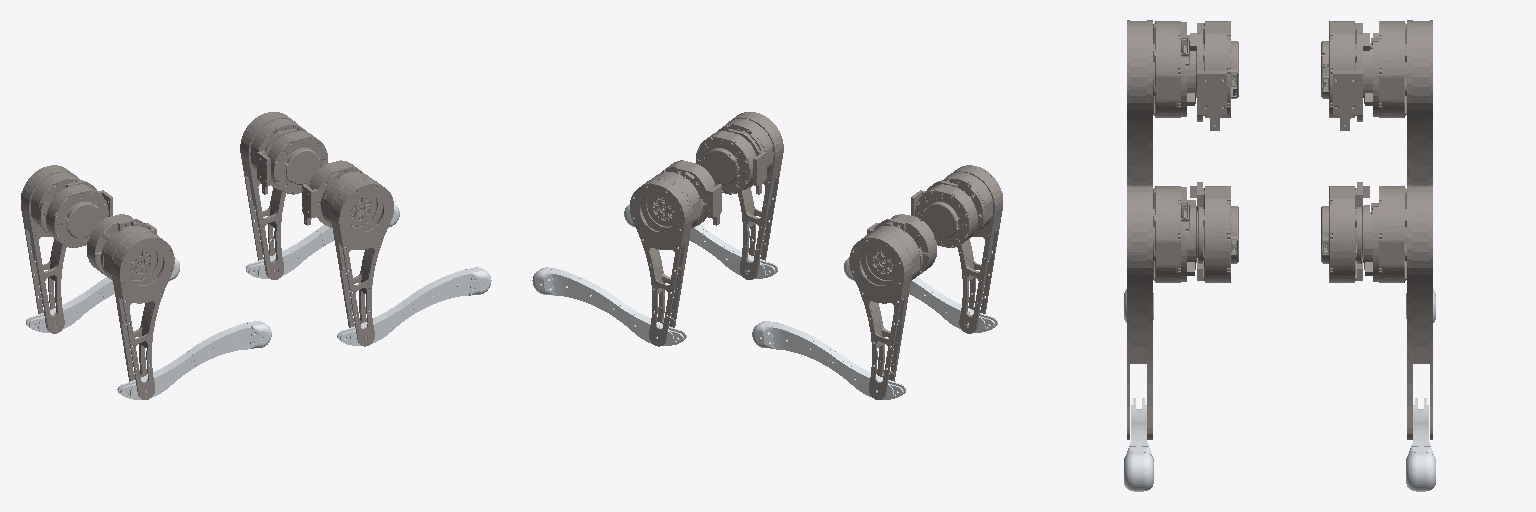
robot.urdf — Creeper20260714:
<?xml version="1.0" encoding="utf-8"?>
<!-- This URDF was automatically created by SolidWorks to URDF Exporter! Originally created by Stephen Brawner (brawner@gmail.com)
     Commit Version: 1.6.0-4-g7f85cfe  Build Version: 1.6.7995.38578
     For more information, please see http://wiki.ros.org/sw_urdf_exporter -->
<!-- Manually refined for Isaac Sim RL training: joint limits, simplified collision geometry, foot/IMU links -->
<robot
  name="Creeper20260714">
  <link
    name="base">
    <inertial>
      <origin
        xyz="0.00386499983177562 -2.03247211452134E-05 -1.80951555348724E-05"
        rpy="0 0 0" />
      <mass
        value="3.74183134376699" />
      <inertia
        ixx="0.00953237368262341"
        ixy="1.89363178280218E-11"
        ixz="-1.01659953800154E-07"
        iyy="0.0083275072712231"
        iyz="-2.58537971389596E-12"
        izz="0.0118622227773655" />
    </inertial>
    <visual>
      <origin
        xyz="0 0 0"
        rpy="0 0 0" />
      <geometry>
        <mesh
          filename="package://Creeper20260714/meshes/base.STL" />
      </geometry>
      <material
        name="">
        <color
          rgba="0.898039215686275 0.917647058823529 0.929411764705882 1" />
      </material>
    </visual>
    <collision>
      <origin
        xyz="0 0 0"
        rpy="0 0 0" />
      <geometry>
        <box
          size="0.272 0.226 0.144" />
      </geometry>
    </collision>
  </link>
  <link
    name="FL_hip">
    <inertial>
      <origin
        xyz="0.0431603084579474 -0.00285111325644608 -0.000548881302929932"
        rpy="0 0 0" />
      <mass
        value="0.320256693089227" />
      <inertia
        ixx="0.000202558487378132"
        ixy="-2.52875164704917E-08"
        ixz="-3.20671099086801E-06"
        iyy="0.000338511851620636"
        iyz="3.0639885191781E-08"
        izz="0.000165734343548543" />
    </inertial>
    <visual>
      <origin
        xyz="0 0 0"
        rpy="0 0 0" />
      <geometry>
        <mesh
          filename="package://Creeper20260714/meshes/FL_hip.STL" />
      </geometry>
      <material
        name="">
        <color
          rgba="0.643137254901961 0.615686274509804 0.6 1" />
      </material>
    </visual>
    <collision>
      <origin
        xyz="0.05825 0.0323 0"
        rpy="1.5708 0 0" />
      <geometry>
        <cylinder
          radius="0.049"
          length="0.111" />
      </geometry>
    </collision>
  </link>
  <joint
    name="FL_hip_joint"
    type="revolute">
    <origin
      xyz="0.1366 0.0650000000000001 0"
      rpy="0 0 0" />
    <parent
      link="base" />
    <child
      link="FL_hip" />
    <axis
      xyz="1 0 0" />
    <limit
      lower="-1.0472"
      upper="1.0472"
      effort="23.7"
      velocity="30.1" />
  </joint>
  <link
    name="FL_thigh">
    <inertial>
      <origin
        xyz="-0.000489671141172848 0.033870013963175 -0.0348280717734466"
        rpy="0 0 0" />
      <mass
        value="0.76538912651759" />
      <inertia
        ixx="0.00270283362642319"
        ixy="-9.91541372042529E-07"
        ixz="-5.66527374408905E-05"
        iyy="0.0031617559141559"
        iyz="8.39811249232385E-07"
        izz="0.000482550188376098" />
    </inertial>
    <visual>
      <origin
        xyz="0 0 0"
        rpy="0 0 0" />
      <geometry>
        <mesh
          filename="package://Creeper20260714/meshes/FL_thigh.STL" />
      </geometry>
      <material
        name="">
        <color
          rgba="0.643137254901961 0.615686274509804 0.6 1" />
      </material>
    </visual>
    <collision>
      <origin
        xyz="-0.01 0.0557 -0.1"
        rpy="0 1.5708 0" />
      <geometry>
        <box
          size="0.1 0.026 0.04" />
      </geometry>
    </collision>
  </link>
  <joint
    name="FL_thigh_joint"
    type="revolute">
    <origin
      xyz="0.0582500000000014 0.0186 0"
      rpy="0 0 0" />
    <parent
      link="FL_hip" />
    <child
      link="FL_thigh" />
    <axis
      xyz="0 1 0" />
    <limit
      lower="-1.5708"
      upper="3.4907"
      effort="23.7"
      velocity="30.1" />
  </joint>
  <link
    name="FL_calf">
    <inertial>
      <origin
        xyz="0.00631299328437346 -2.44962006318572E-05 -0.0917686544938744"
        rpy="0 0 0" />
      <mass
        value="0.247799276349931" />
      <inertia
        ixx="0.000559369450508884"
        ixy="7.27767290770979E-09"
        ixz="3.19275906514457E-05"
        iyy="0.000579943419434484"
        iyz="5.90377388399681E-08"
        izz="2.49336124638641E-05" />
    </inertial>
    <visual>
      <origin
        xyz="0 0 0"
        rpy="0 0 0" />
      <geometry>
        <mesh
          filename="package://Creeper20260714/meshes/FL_calf.STL" />
      </geometry>
      <material
        name="">
        <color
          rgba="0.898039215686275 0.917647058823529 0.929411764705882 1" />
      </material>
    </visual>
    <collision>
      <origin
        xyz="0.01 0 -0.07"
        rpy="0 -0.2 0" />
      <geometry>
        <cylinder
          radius="0.013"
          length="0.12" />
      </geometry>
    </collision>
  </link>
  <joint
    name="FL_calf_joint"
    type="revolute">
    <origin
      xyz="0 0.0571999999999998 -0.210000000000001"
      rpy="0 0 0" />
    <parent
      link="FL_thigh" />
    <child
      link="FL_calf" />
    <axis
      xyz="0 1 0" />
    <limit
      lower="-2.7227"
      upper="-0.83776"
      effort="23.7"
      velocity="30.1" />
  </joint>
  <link
    name="FL_foot">
    <inertial>
      <origin
        xyz="0 0 0"
        rpy="0 0 0" />
      <mass
        value="0.001" />
      <inertia
        ixx="1e-06"
        ixy="0"
        ixz="0"
        iyy="1e-06"
        iyz="0"
        izz="1e-06" />
    </inertial>
    <collision>
      <origin
        xyz="0 0 0"
        rpy="0 0 0" />
      <geometry>
        <sphere
          radius="0.02" />
      </geometry>
    </collision>
  </link>
  <joint
    name="FL_foot_joint"
    type="fixed">
    <origin
      xyz="0 0 -0.208"
      rpy="0 0 0" />
    <parent
      link="FL_calf" />
    <child
      link="FL_foot" />
    <axis
      xyz="0 0 0" />
  </joint>
  <link
    name="FR_hip">
    <inertial>
      <origin
        xyz="0.0488518947910704 -0.00192525478270265 -0.00015510327322886"
        rpy="0 0 0" />
      <mass
        value="0.257407927514488" />
      <inertia
        ixx="0.000156846815669293"
        ixy="5.06258230404034E-06"
        ixz="-1.06041391708468E-06"
        iyy="0.000275360062616544"
        iyz="9.35203969424092E-07"
        izz="0.00014033952573263" />
    </inertial>
    <visual>
      <origin
        xyz="0 0 0"
        rpy="0 0 0" />
      <geometry>
        <mesh
          filename="package://Creeper20260714/meshes/FR_hip.STL" />
      </geometry>
      <material
        name="">
        <color
          rgba="0.643137254901961 0.615686274509804 0.6 1" />
      </material>
    </visual>
    <collision>
      <origin
        xyz="0.05825 -0.0323 0"
        rpy="1.5708 0 0" />
      <geometry>
        <cylinder
          radius="0.049"
          length="0.111" />
      </geometry>
    </collision>
  </link>
  <joint
    name="FR_hip_joint"
    type="revolute">
    <origin
      xyz="0.1366 -0.065 0"
      rpy="0 0 0" />
    <parent
      link="base" />
    <child
      link="FR_hip" />
    <axis
      xyz="1 0 0" />
    <limit
      lower="-1.0472"
      upper="1.0472"
      effort="23.7"
      velocity="30.1" />
  </joint>
  <link
    name="FR_thigh">
    <inertial>
      <origin
        xyz="-0.00138356714240059 -0.0372521299929286 -0.0290600607162528"
        rpy="0 0 0" />
      <mass
        value="0.589774741172531" />
      <inertia
        ixx="0.00178232184904083"
        ixy="-7.78885731305333E-07"
        ixz="-2.43318120038301E-05"
        iyy="0.00212930364572145"
        iyz="-6.58052186418647E-07"
        izz="0.000367961460449924" />
    </inertial>
    <visual>
      <origin
        xyz="0 0 0"
        rpy="0 0 0" />
      <geometry>
        <mesh
          filename="package://Creeper20260714/meshes/FR_thigh.STL" />
      </geometry>
      <material
        name="">
        <color
          rgba="0.643137254901961 0.615686274509804 0.6 1" />
      </material>
    </visual>
    <collision>
      <origin
        xyz="-0.01 -0.0557 -0.1"
        rpy="0 1.5708 0" />
      <geometry>
        <box
          size="0.1 0.026 0.04" />
      </geometry>
    </collision>
  </link>
  <joint
    name="FR_thigh_joint"
    type="revolute">
    <origin
      xyz="0.05825 -0.0185999999999999 0"
      rpy="0 0 0" />
    <parent
      link="FR_hip" />
    <child
      link="FR_thigh" />
    <axis
      xyz="0 1 0" />
    <limit
      lower="-1.5708"
      upper="3.4907"
      effort="23.7"
      velocity="30.1" />
  </joint>
  <link
    name="FR_calf">
    <inertial>
      <origin
        xyz="0.00631299328437376 -2.82624520819563E-05 -0.0917686544938743"
        rpy="0 0 0" />
      <mass
        value="0.247799276349931" />
      <inertia
        ixx="0.000559369450508884"
        ixy="7.27767290771992E-09"
        ixz="3.19275906514456E-05"
        iyy="0.000579943419434487"
        iyz="5.90377388401947E-08"
        izz="2.4933612463867E-05" />
    </inertial>
    <visual>
      <origin
        xyz="0 0 0"
        rpy="0 0 0" />
      <geometry>
        <mesh
          filename="package://Creeper20260714/meshes/FR_calf.STL" />
      </geometry>
      <material
        name="">
        <color
          rgba="0.898039215686275 0.917647058823529 0.929411764705882 1" />
      </material>
    </visual>
    <collision>
      <origin
        xyz="0.01 0 -0.07"
        rpy="0 -0.2 0" />
      <geometry>
        <cylinder
          radius="0.013"
          length="0.12" />
      </geometry>
    </collision>
  </link>
  <joint
    name="FR_calf_joint"
    type="revolute">
    <origin
      xyz="0 -0.0571999999999967 -0.210000000000007"
      rpy="0 0 0" />
    <parent
      link="FR_thigh" />
    <child
      link="FR_calf" />
    <axis
      xyz="0 1 0" />
    <limit
      lower="-2.7227"
      upper="-0.83776"
      effort="23.7"
      velocity="30.1" />
  </joint>
  <link
    name="FR_foot">
    <inertial>
      <origin
        xyz="0 0 0"
        rpy="0 0 0" />
      <mass
        value="0.001" />
      <inertia
        ixx="1e-06"
        ixy="0"
        ixz="0"
        iyy="1e-06"
        iyz="0"
        izz="1e-06" />
    </inertial>
    <collision>
      <origin
        xyz="0 0 0"
        rpy="0 0 0" />
      <geometry>
        <sphere
          radius="0.02" />
      </geometry>
    </collision>
  </link>
  <joint
    name="FR_foot_joint"
    type="fixed">
    <origin
      xyz="0 0 -0.208"
      rpy="0 0 0" />
    <parent
      link="FR_calf" />
    <child
      link="FR_foot" />
    <axis
      xyz="0 0 0" />
  </joint>
  <link
    name="RL_hip">
    <inertial>
      <origin
        xyz="-0.0393361409595493 -0.0226400630712833 -0.00103913853424456"
        rpy="0 0 0" />
      <mass
        value="0.383105458604425" />
      <inertia
        ixx="0.00024827015908543"
        ixy="5.06258230369592E-06"
        ixz="-1.78041535249447E-06"
        iyy="0.000401663640603311"
        iyz="-9.35203969371761E-07"
        izz="0.000191129161344077" />
    </inertial>
    <visual>
      <origin
        xyz="0 0 0"
        rpy="0 0 0" />
      <geometry>
        <mesh
          filename="package://Creeper20260714/meshes/RL_hip.STL" />
      </geometry>
      <material
        name="">
        <color
          rgba="0.643137254901961 0.615686274509804 0.6 1" />
      </material>
    </visual>
    <collision>
      <origin
        xyz="-0.05825 0.0323 0"
        rpy="1.5708 0 0" />
      <geometry>
        <cylinder
          radius="0.049"
          length="0.111" />
      </geometry>
    </collision>
  </link>
  <joint
    name="RL_hip_joint"
    type="revolute">
    <origin
      xyz="-0.1366 0.0650000000000006 0"
      rpy="0 0 0" />
    <parent
      link="base" />
    <child
      link="RL_hip" />
    <axis
      xyz="1 0 0" />
    <limit
      lower="-1.0472"
      upper="1.0472"
      effort="23.7"
      velocity="30.1" />
  </joint>
  <link
    name="RL_thigh">
    <inertial>
      <origin
        xyz="-0.000605616569703843 0.0337890578146834 -0.0346416552015531"
        rpy="0 0 0" />
      <mass
        value="0.767995666671646" />
      <inertia
        ixx="0.00270351010113163"
        ixy="-6.19424853514095E-07"
        ixz="-5.56159167100681E-05"
        iyy="0.00316653098039147"
        iyz="7.2762594166608E-07"
        izz="0.000486786032280311" />
    </inertial>
    <visual>
      <origin
        xyz="0 0 0"
        rpy="0 0 0" />
      <geometry>
        <mesh
          filename="package://Creeper20260714/meshes/RL_thigh.STL" />
      </geometry>
      <material
        name="">
        <color
          rgba="0.643137254901961 0.615686274509804 0.6 1" />
      </material>
    </visual>
    <collision>
      <origin
        xyz="-0.01 0.0557 -0.1"
        rpy="0 1.5708 0" />
      <geometry>
        <box
          size="0.1 0.026 0.04" />
      </geometry>
    </collision>
  </link>
  <joint
    name="RL_thigh_joint"
    type="revolute">
    <origin
      xyz="-0.0582499999999999 0.0186000000000001 0"
      rpy="0 0 0" />
    <parent
      link="RL_hip" />
    <child
      link="RL_thigh" />
    <axis
      xyz="0 1 0" />
    <limit
      lower="-0.5236"
      upper="4.5379"
      effort="23.7"
      velocity="30.1" />
  </joint>
  <link
    name="RL_calf">
    <inertial>
      <origin
        xyz="0.0063129932843731 -2.44962006353266E-05 -0.0917686544938742"
        rpy="0 0 0" />
      <mass
        value="0.247799276349931" />
      <inertia
        ixx="0.000559369450508884"
        ixy="7.27767290772805E-09"
        ixz="3.19275906514457E-05"
        iyy="0.000579943419434484"
        iyz="5.90377388397106E-08"
        izz="2.49336124638644E-05" />
    </inertial>
    <visual>
      <origin
        xyz="0 0 0"
        rpy="0 0 0" />
      <geometry>
        <mesh
          filename="package://Creeper20260714/meshes/RL_calf.STL" />
      </geometry>
      <material
        name="">
        <color
          rgba="0.898039215686275 0.917647058823529 0.929411764705882 1" />
      </material>
    </visual>
    <collision>
      <origin
        xyz="0.01 0 -0.07"
        rpy="0 -0.2 0" />
      <geometry>
        <cylinder
          radius="0.013"
          length="0.12" />
      </geometry>
    </collision>
  </link>
  <joint
    name="RL_calf_joint"
    type="revolute">
    <origin
      xyz="0 0.0572 -0.21"
      rpy="0 0 0" />
    <parent
      link="RL_thigh" />
    <child
      link="RL_calf" />
    <axis
      xyz="0 1 0" />
    <limit
      lower="-2.7227"
      upper="-0.83776"
      effort="23.7"
      velocity="30.1" />
  </joint>
  <link
    name="RL_foot">
    <inertial>
      <origin
        xyz="0 0 0"
        rpy="0 0 0" />
      <mass
        value="0.001" />
      <inertia
        ixx="1e-06"
        ixy="0"
        ixz="0"
        iyy="1e-06"
        iyz="0"
        izz="1e-06" />
    </inertial>
    <collision>
      <origin
        xyz="0 0 0"
        rpy="0 0 0" />
      <geometry>
        <sphere
          radius="0.02" />
      </geometry>
    </collision>
  </link>
  <joint
    name="RL_foot_joint"
    type="fixed">
    <origin
      xyz="0 0 -0.208"
      rpy="0 0 0" />
    <parent
      link="RL_calf" />
    <child
      link="RL_foot" />
    <axis
      xyz="0 0 0" />
  </joint>
  <link
    name="RR_hip">
    <inertial>
      <origin
        xyz="-0.0353696037327936 -0.00354409252874778 -0.000548881303622295"
        rpy="0 0 0" />
      <mass
        value="0.320256692950571" />
      <inertia
        ixx="0.000202558487377744"
        ixy="-2.52875162990641E-08"
        ixz="3.6588172013959E-07"
        iyy="0.000338511851613556"
        iyz="1.77848828298648E-06"
        izz="0.00016573434354132" />
    </inertial>
    <visual>
      <origin
        xyz="0 0 0"
        rpy="0 0 0" />
      <geometry>
        <mesh
          filename="package://Creeper20260714/meshes/RR_hip.STL" />
      </geometry>
      <material
        name="">
        <color
          rgba="0.643137254901961 0.615686274509804 0.6 1" />
      </material>
    </visual>
    <collision>
      <origin
        xyz="-0.05825 -0.0323 0"
        rpy="1.5708 0 0" />
      <geometry>
        <cylinder
          radius="0.049"
          length="0.111" />
      </geometry>
    </collision>
  </link>
  <joint
    name="RR_hip_joint"
    type="revolute">
    <origin
      xyz="-0.1366 -0.0649999999999998 0"
      rpy="0 0 0" />
    <parent
      link="base" />
    <child
      link="RR_hip" />
    <axis
      xyz="1 0 0" />
    <limit
      lower="-1.0472"
      upper="1.0472"
      effort="23.7"
      velocity="30.1" />
  </joint>
  <link
    name="RR_thigh">
    <inertial>
      <origin
        xyz="-0.00121942069173317 -0.0371322923229595 -0.0288437599147654"
        rpy="0 0 0" />
      <mass
        value="0.592381281327927" />
      <inertia
        ixx="0.00178299830958067"
        ixy="-4.31308344515693E-07"
        ixz="-2.6476601642654E-05"
        iyy="0.00213366592056727"
        iyz="-5.45866721693916E-07"
        izz="0.000371784527133022" />
    </inertial>
    <visual>
      <origin
        xyz="0 0 0"
        rpy="0 0 0" />
      <geometry>
        <mesh
          filename="package://Creeper20260714/meshes/RR_thigh.STL" />
      </geometry>
      <material
        name="">
        <color
          rgba="0.643137254901961 0.615686274509804 0.6 1" />
      </material>
    </visual>
    <collision>
      <origin
        xyz="-0.01 -0.0557 -0.1"
        rpy="0 1.5708 0" />
      <geometry>
        <box
          size="0.1 0.026 0.04" />
      </geometry>
    </collision>
  </link>
  <joint
    name="RR_thigh_joint"
    type="revolute">
    <origin
      xyz="-0.0582499999999994 -0.0186 0"
      rpy="0 0 0" />
    <parent
      link="RR_hip" />
    <child
      link="RR_thigh" />
    <axis
      xyz="0 1 0" />
    <limit
      lower="-0.5236"
      upper="4.5379"
      effort="23.7"
      velocity="30.1" />
  </joint>
  <link
    name="RR_calf">
    <inertial>
      <origin
        xyz="0.00631299328437376 -2.44962006321625E-05 -0.091768654493874"
        rpy="0 0 0" />
      <mass
        value="0.24779927634993" />
      <inertia
        ixx="0.000559369450508883"
        ixy="7.27767290770092E-09"
        ixz="3.19275906514452E-05"
        iyy="0.000579943419434486"
        iyz="5.90377388400507E-08"
        izz="2.49336124638669E-05" />
    </inertial>
    <visual>
      <origin
        xyz="0 0 0"
        rpy="0 0 0" />
      <geometry>
        <mesh
          filename="package://Creeper20260714/meshes/RR_calf.STL" />
      </geometry>
      <material
        name="">
        <color
          rgba="0.898039215686275 0.917647058823529 0.929411764705882 1" />
      </material>
    </visual>
    <collision>
      <origin
        xyz="0.01 0 -0.07"
        rpy="0 -0.2 0" />
      <geometry>
        <cylinder
          radius="0.013"
          length="0.12" />
      </geometry>
    </collision>
  </link>
  <joint
    name="RR_calf_joint"
    type="revolute">
    <origin
      xyz="0 -0.0572000000000006 -0.21"
      rpy="0 0 0" />
    <parent
      link="RR_thigh" />
    <child
      link="RR_calf" />
    <axis
      xyz="0 1 0" />
    <limit
      lower="-2.7227"
      upper="-0.83776"
      effort="23.7"
      velocity="30.1" />
  </joint>
  <link
    name="RR_foot">
    <inertial>
      <origin
        xyz="0 0 0"
        rpy="0 0 0" />
      <mass
        value="0.001" />
      <inertia
        ixx="1e-06"
        ixy="0"
        ixz="0"
        iyy="1e-06"
        iyz="0"
        izz="1e-06" />
    </inertial>
    <collision>
      <origin
        xyz="0 0 0"
        rpy="0 0 0" />
      <geometry>
        <sphere
          radius="0.02" />
      </geometry>
    </collision>
  </link>
  <joint
    name="RR_foot_joint"
    type="fixed">
    <origin
      xyz="0 0 -0.208"
      rpy="0 0 0" />
    <parent
      link="RR_calf" />
    <child
      link="RR_foot" />
    <axis
      xyz="0 0 0" />
  </joint>
  <link
    name="imu">
    <inertial>
      <origin
        xyz="0 0 0"
        rpy="0 0 0" />
      <mass
        value="0.001" />
      <inertia
        ixx="1e-06"
        ixy="0"
        ixz="0"
        iyy="1e-06"
        iyz="0"
        izz="1e-06" />
    </inertial>
  </link>
  <joint
    name="imu_joint"
    type="fixed">
    <origin
      xyz="-0.02557 0 0.04232"
      rpy="0 0 0" />
    <parent
      link="base" />
    <child
      link="imu" />
    <axis
      xyz="0 0 0" />
  </joint>
</robot>

--- Facts derived from the render (not from the file) ---
The picture shows the robot from 3 angles, left to right: view 1: azimuth 30°, elevation 25°; view 2: azimuth 150°, elevation 25°; view 3: azimuth 270°, elevation 25°; orthographic projection.
Robot: Creeper20260714 — 18 links, 17 joints (12 revolute, 5 fixed); root link base; default pose: all joints at 0 but 4 set to mid-range because 0 is outside their limits (FL_calf_joint = -1.78, FR_calf_joint = -1.78, RL_calf_joint = -1.78, RR_calf_joint = -1.78).
Visible links, largest first — view 1: FR_thigh, RR_thigh, RL_thigh, FL_thigh, FL_hip, RL_hip, RR_calf, FR_calf, RL_calf, FL_calf, FR_hip, RR_hip; view 2: RL_thigh, FL_thigh, RR_thigh, FR_thigh, FR_hip, RR_hip, RL_calf, FL_calf, RR_calf, FR_calf, FL_hip, RL_hip; view 3: FR_thigh, FL_thigh, RR_thigh, RL_thigh, RL_hip, RR_hip, FL_hip, FR_hip, FR_calf, FL_calf.
Link boxes in pixels (x1=…): FR_thigh: x1=321, y1=172, x2=393, y2=346; RR_thigh: x1=101, y1=226, x2=174, y2=399; RL_thigh: x1=21, y1=165, x2=81, y2=333; FL_thigh: x1=240, y1=112, x2=306, y2=279; FL_hip: x1=257, y1=129, x2=327, y2=194; RL_hip: x1=46, y1=180, x2=112, y2=247; RR_calf: x1=117, y1=321, x2=271, y2=399; FR_calf: x1=337, y1=267, x2=491, y2=345; RL_calf: x1=26, y1=258, x2=179, y2=332; FL_calf: x1=246, y1=204, x2=399, y2=278; FR_hip: x1=302, y1=160, x2=362, y2=227; RR_hip: x1=87, y1=214, x2=156, y2=276; RL_thigh: x1=849, y1=226, x2=922, y2=399; FL_thigh: x1=630, y1=172, x2=702, y2=346; RR_thigh: x1=942, y1=165, x2=1002, y2=333; FR_thigh: x1=717, y1=112, x2=783, y2=279; FR_hip: x1=696, y1=129, x2=766, y2=194; RR_hip: x1=911, y1=180, x2=977, y2=247; RL_calf: x1=752, y1=321, x2=906, y2=399; FL_calf: x1=532, y1=267, x2=686, y2=345; RR_calf: x1=844, y1=258, x2=997, y2=332; FR_calf: x1=624, y1=204, x2=777, y2=278; FL_hip: x1=661, y1=160, x2=721, y2=227; RL_hip: x1=867, y1=214, x2=936, y2=276; FR_thigh: x1=1127, y1=185, x2=1195, y2=439; FL_thigh: x1=1364, y1=185, x2=1432, y2=439; RR_thigh: x1=1127, y1=20, x2=1195, y2=185; RL_thigh: x1=1364, y1=20, x2=1432, y2=185; RL_hip: x1=1321, y1=21, x2=1369, y2=130; RR_hip: x1=1190, y1=21, x2=1238, y2=130; FL_hip: x1=1321, y1=182, x2=1369, y2=282; FR_hip: x1=1190, y1=182, x2=1238, y2=282; FR_calf: x1=1124, y1=398, x2=1153, y2=491; FL_calf: x1=1406, y1=398, x2=1435, y2=491.
Size in the robot's own frame: 0.6621 by 0.3116 by 0.2739 metres.
12 mesh visuals loaded from 13 distinct referenced files (12 binary STL); not drawn: 1 (reference not matched to a file when rendering).
